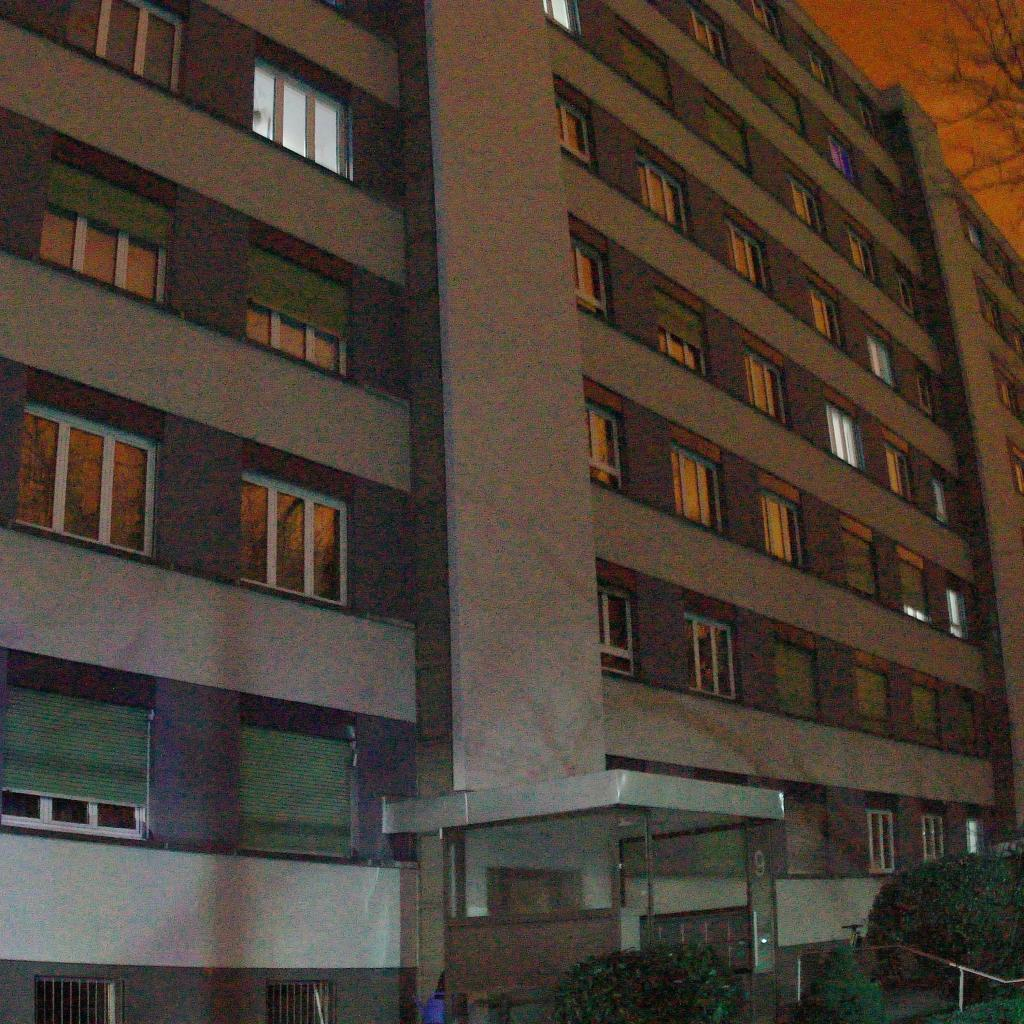non-building-infrastructure: (413, 992, 445, 1024)
street: (856, 952, 952, 1024)
vegetation: (861, 0, 1024, 259), (868, 825, 1024, 1024), (547, 938, 751, 1024), (792, 937, 894, 1024)
window: (1, 655, 152, 840), (14, 398, 160, 561), (40, 158, 173, 305), (242, 699, 355, 862), (240, 471, 348, 610), (245, 244, 353, 378), (251, 57, 353, 183), (64, 0, 189, 94), (670, 442, 722, 535), (656, 288, 708, 378), (684, 612, 736, 700), (636, 155, 688, 236), (35, 976, 120, 1024), (620, 30, 672, 108), (741, 346, 789, 430), (760, 484, 807, 567), (784, 793, 831, 875), (773, 638, 819, 720), (585, 400, 625, 493), (705, 101, 751, 177), (569, 235, 609, 321), (598, 583, 635, 675), (264, 980, 337, 1024), (727, 219, 769, 295), (826, 400, 866, 475), (840, 525, 878, 602), (691, 7, 732, 72), (787, 172, 825, 241), (556, 93, 592, 165), (856, 666, 893, 734), (767, 76, 805, 140), (811, 284, 845, 351), (898, 558, 931, 625), (866, 809, 896, 876), (827, 130, 858, 191), (884, 441, 914, 504), (867, 332, 897, 392), (912, 684, 941, 744), (848, 230, 876, 285), (751, 0, 783, 45), (946, 586, 971, 641), (916, 368, 939, 425), (809, 50, 835, 97), (953, 698, 977, 747), (895, 272, 917, 322), (858, 100, 883, 143), (922, 815, 944, 863), (933, 476, 952, 529), (879, 179, 900, 226), (998, 372, 1018, 417), (965, 819, 987, 853), (983, 290, 1001, 331), (966, 219, 984, 255), (1010, 450, 1024, 496), (994, 251, 1009, 281), (1011, 327, 1024, 358)
